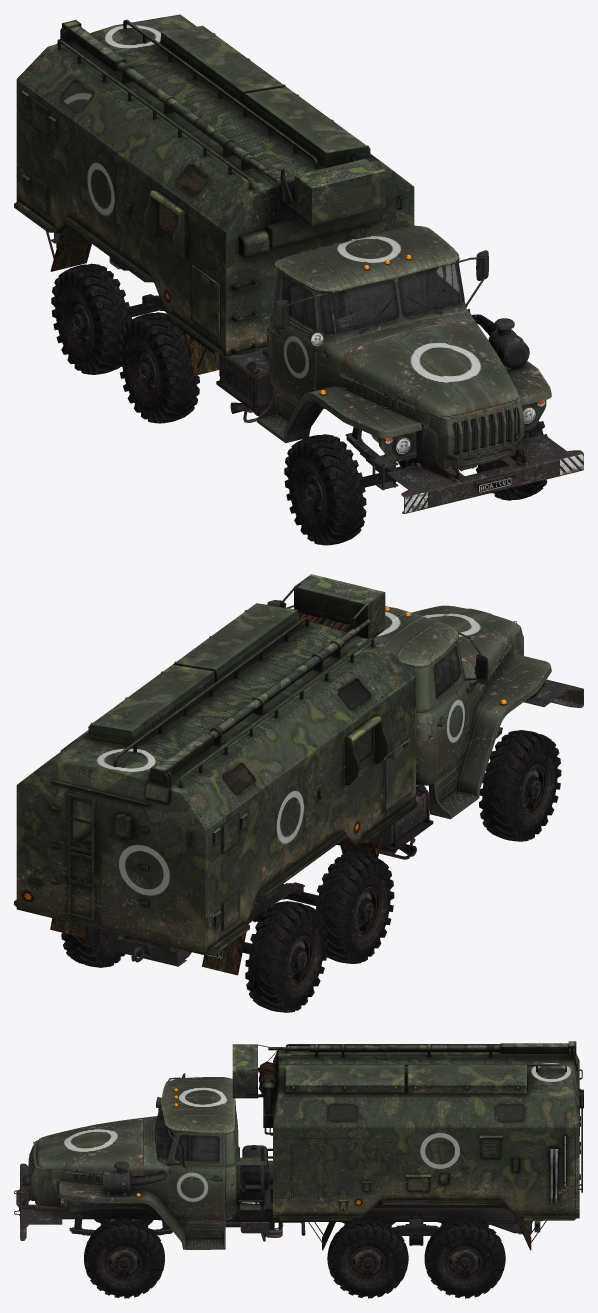
Rendered from ural4320_kung.glb.
3 renders of one model, top to bottom at view 1: azimuth 30°, elevation 25°; view 2: azimuth 150°, elevation 25°; view 3: azimuth 270°, elevation 25°, orthographic. The views are drawn at different scales.
Visible parts, largest first — view 1: Body; view 2: Body; view 3: Body.
Boxes of the visible parts, x1,y1,x2,y2 form: Body: (14, 14, 583, 545); Body: (14, 574, 583, 1012); Body: (14, 1041, 583, 1298).
Bounding box in the file's own units: 2.73 × 3.29 × 8.22.
Materials: 6 (6 with a texture image).
